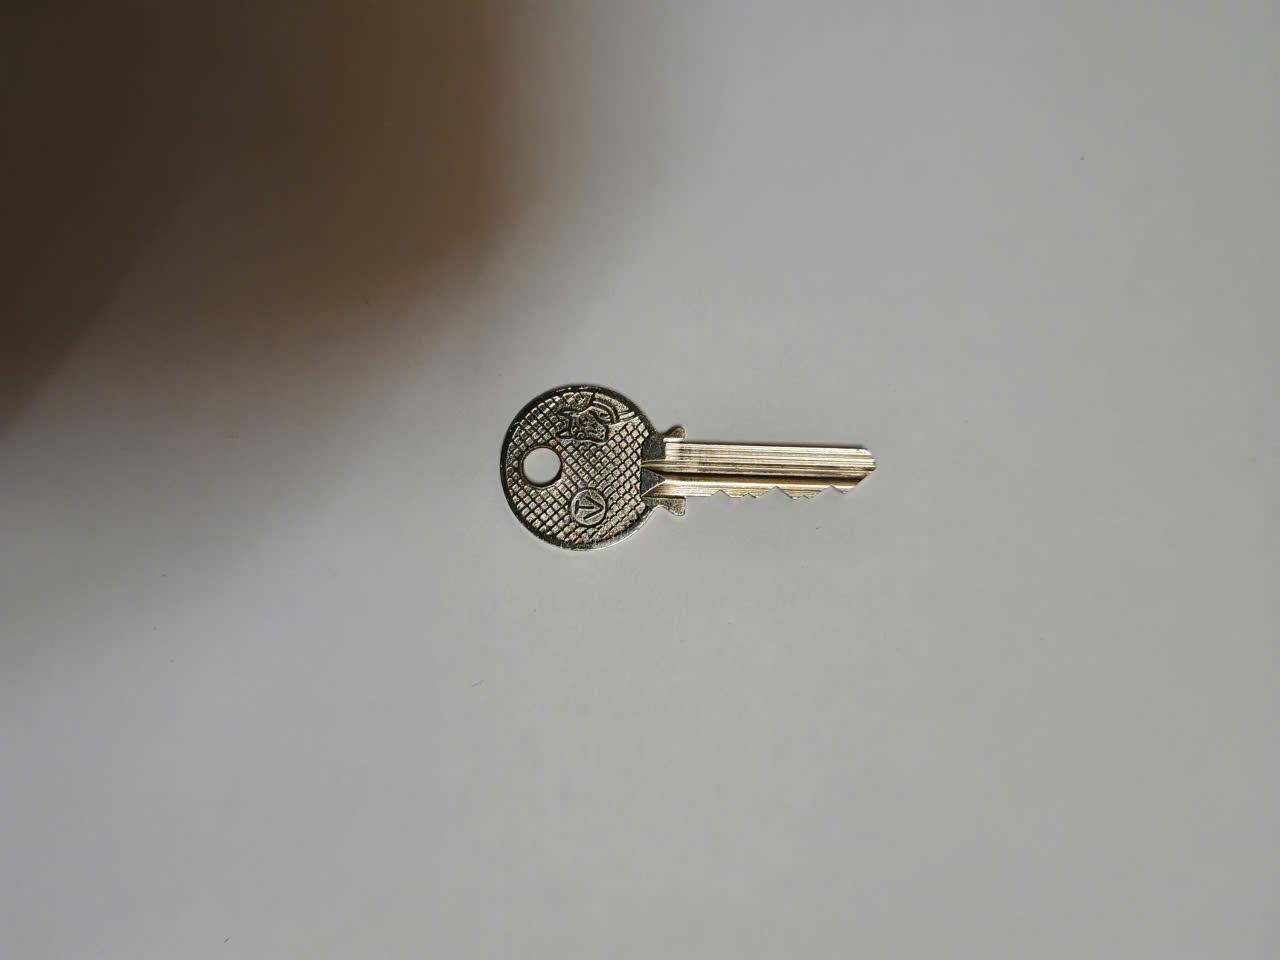Vo co: (496, 380, 879, 553)
